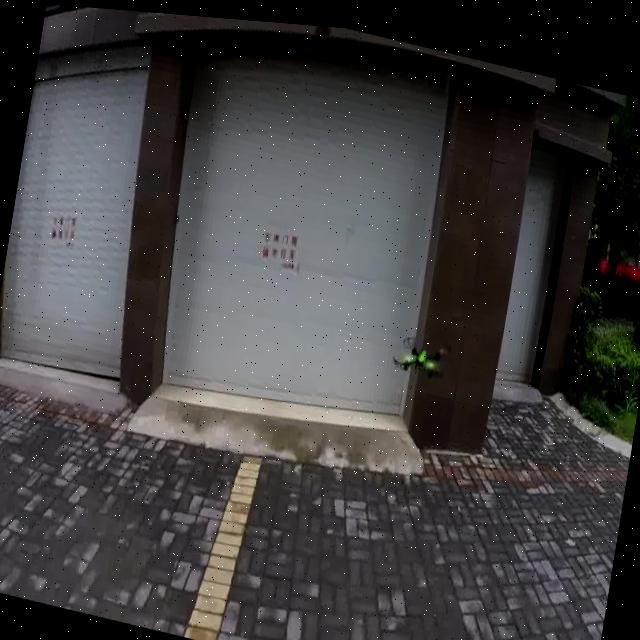drone: (384, 312, 458, 386)
